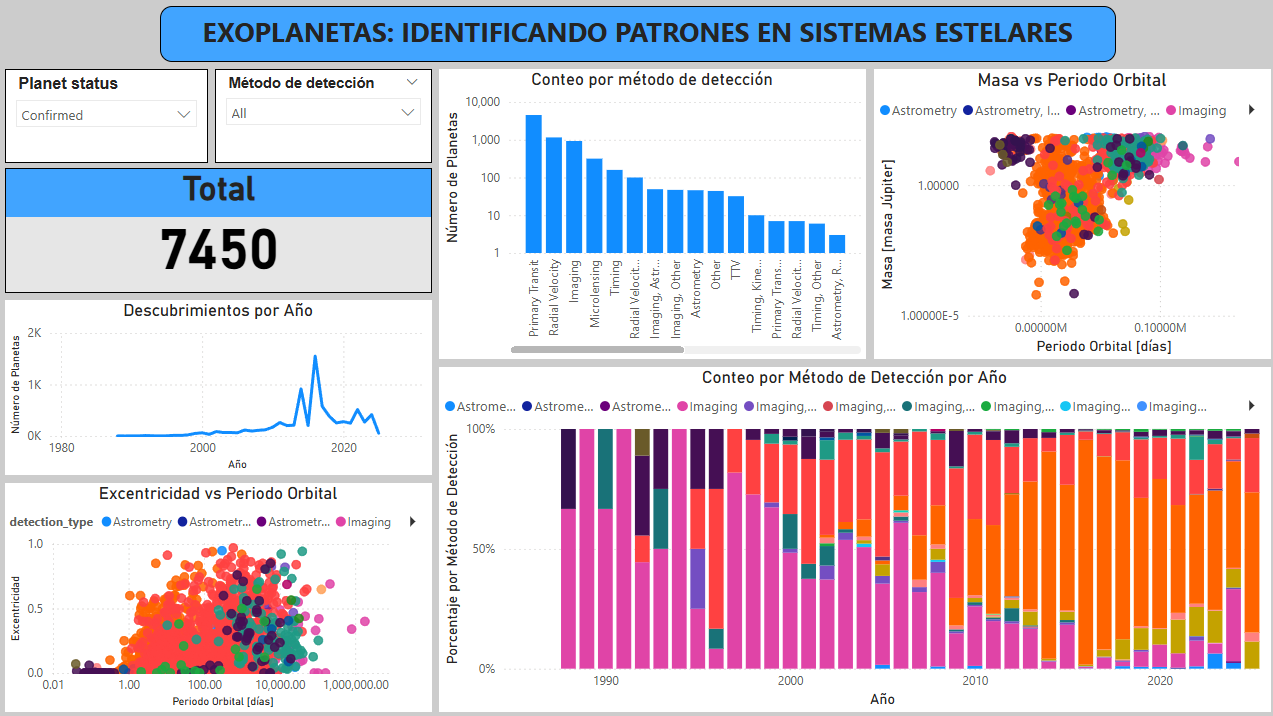

This screenshot's page, from the dashboard's own definition file:
{"tool":"powerbi","page":{"name":"Reporte","canvas":[1280,720],"ordinal":2},"visuals":[{"type":"card","title":"Total","fields":{"Values":["CountNonNull(exoplanets.detection_type)"]},"box":[7,169,427,125],"z":0},{"type":"slicer","fields":{"Values":["exoplanets.planet_status"]},"box":[7,70,203,94],"z":1000},{"type":"lineChart","title":"Descubrimientos por Año","fields":{"Category":["exoplanets.discovered"],"Y":["CountNonNull(exoplanets.discovered)"]},"box":[7,301,427,175],"z":2000},{"type":"hundredPercentStackedColumnChart","title":"Conteo por Método de Detección por Año","fields":{"Category":["exoplanets.discovered"],"Y":["CountNonNull(exoplanets.detection_type)"],"Series":["exoplanets.detection_type"]},"box":[441,368,832,345],"z":3000},{"type":"scatterChart","title":"Excentricidad vs Periodo Orbital","fields":{"X":["exoplanets.orbital_period"],"Y":["exoplanets.eccentricity"],"Series":["exoplanets.detection_type"]},"box":[7,484,427,229],"z":4000},{"type":"textbox","box":[162,7,956,56],"z":5000},{"type":"scatterChart","title":"Masa vs Periodo Orbital","fields":{"X":["exoplanets.orbital_period"],"Y":["exoplanets.mass"],"Series":["exoplanets.detection_type"]},"box":[876,70,397,290],"z":6000},{"type":"slicer","fields":{"Values":["exoplanets.detection_type"]},"box":[217,70,217,94],"z":6001},{"type":"clusteredColumnChart","title":"Conteo por método de detección","fields":{"Category":["exoplanets.detection_type"],"Y":["CountNonNull(exoplanets.detection_type)"]},"box":[441,70,427,290],"z":6002}]}

Visuals, with their boxes in screenshot pixels (x1, y1, x2, y2), scaled from the page's 1280x720 canvas onto the 1273x716 screenshot:
"Total" card: (x1=7, y1=168, x2=432, y2=292)
slicer - exoplanets.planet_status: (x1=7, y1=70, x2=209, y2=163)
"Descubrimientos por Año" lineChart: (x1=7, y1=299, x2=432, y2=473)
"Conteo por Método de Detección por Año" hundredPercentStackedColumnChart: (x1=439, y1=366, x2=1266, y2=709)
"Excentricidad vs Periodo Orbital" scatterChart: (x1=7, y1=481, x2=432, y2=709)
textbox: (x1=161, y1=7, x2=1112, y2=63)
"Masa vs Periodo Orbital" scatterChart: (x1=871, y1=70, x2=1266, y2=358)
slicer - exoplanets.detection_type: (x1=216, y1=70, x2=432, y2=163)
"Conteo por método de detección" clusteredColumnChart: (x1=439, y1=70, x2=863, y2=358)
